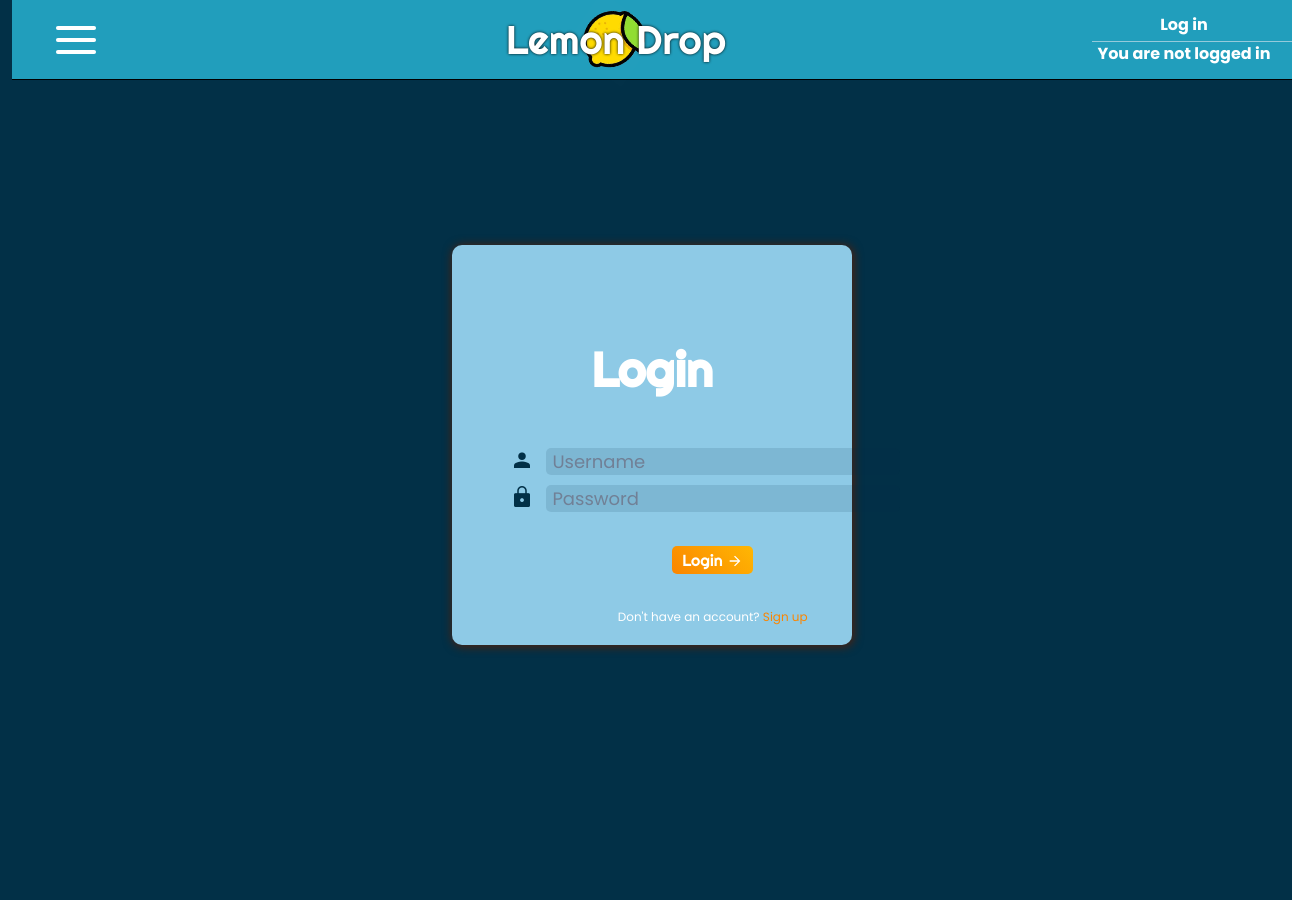
Test: clicking login with correct credentials gives a success toast
The width and height of the screenshot is (1292, 900).
Type "ben10" into the field with placeholder "Username". click: [723, 461]
box: top-left (546, 448), bottom-right (900, 474)
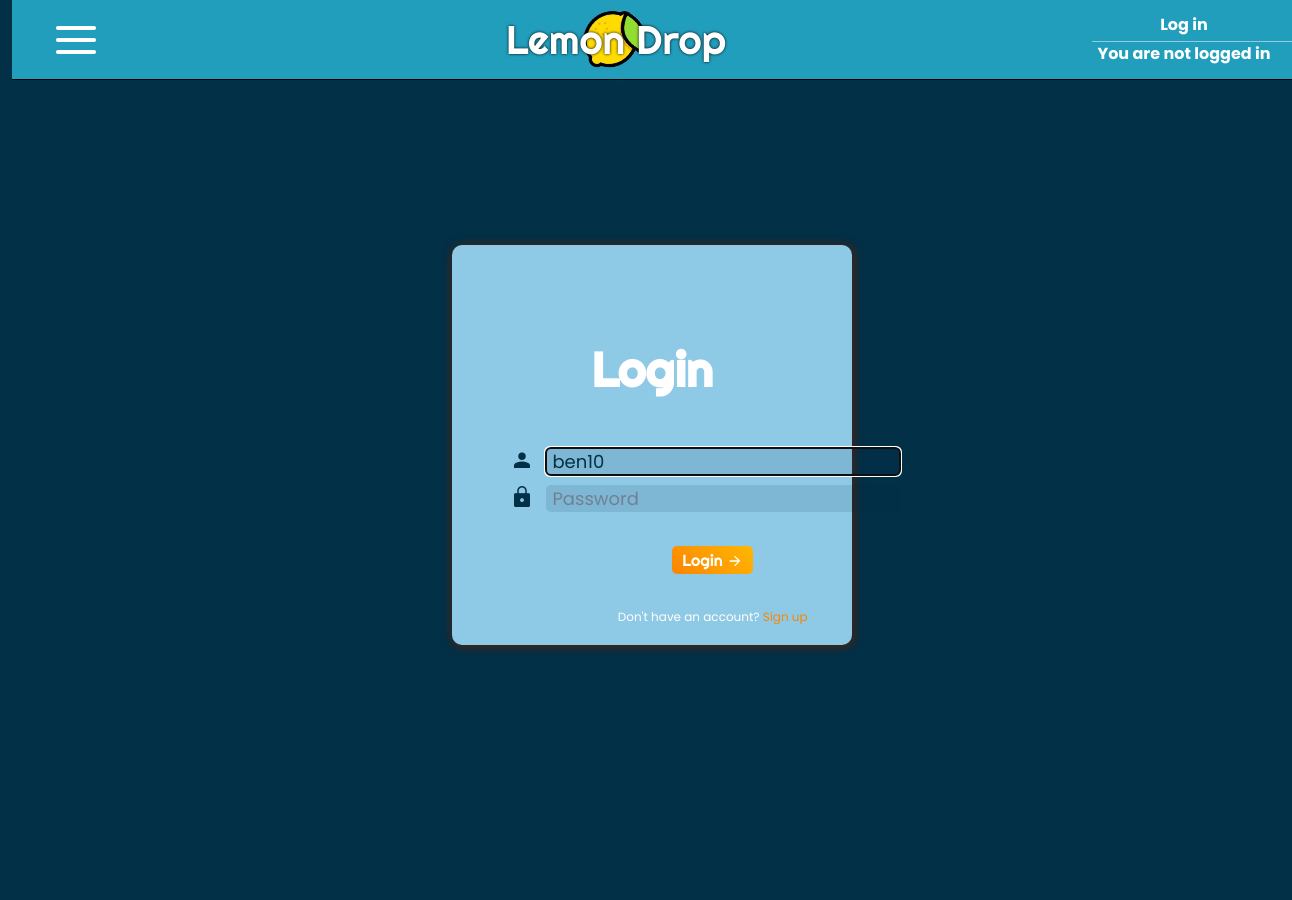
Type "test" into the password field with placeholder "Password". click: [723, 498]
box: top-left (546, 484), bottom-right (900, 512)
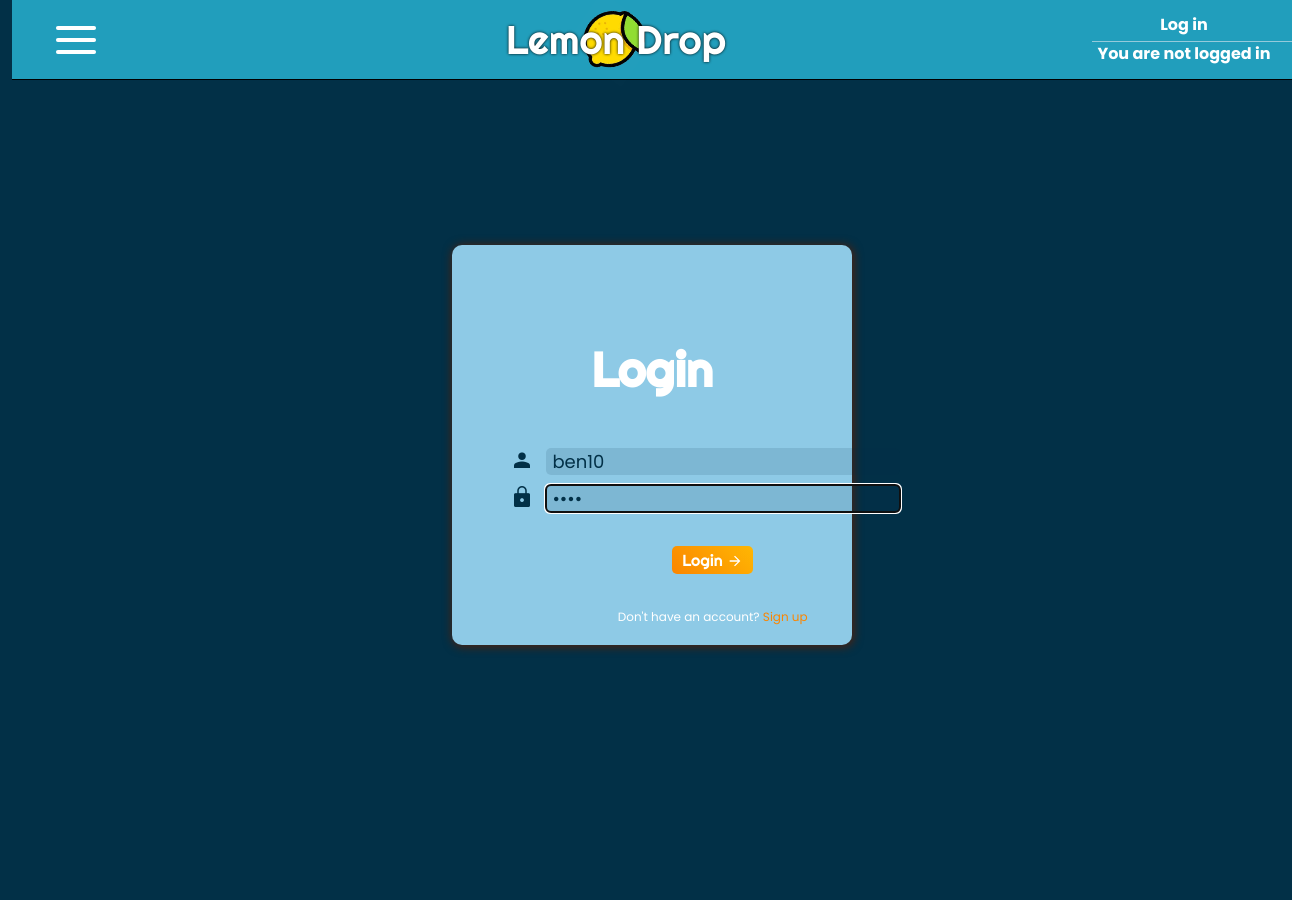
Click the button. click: [713, 560]
box: top-left (672, 546), bottom-right (753, 574)
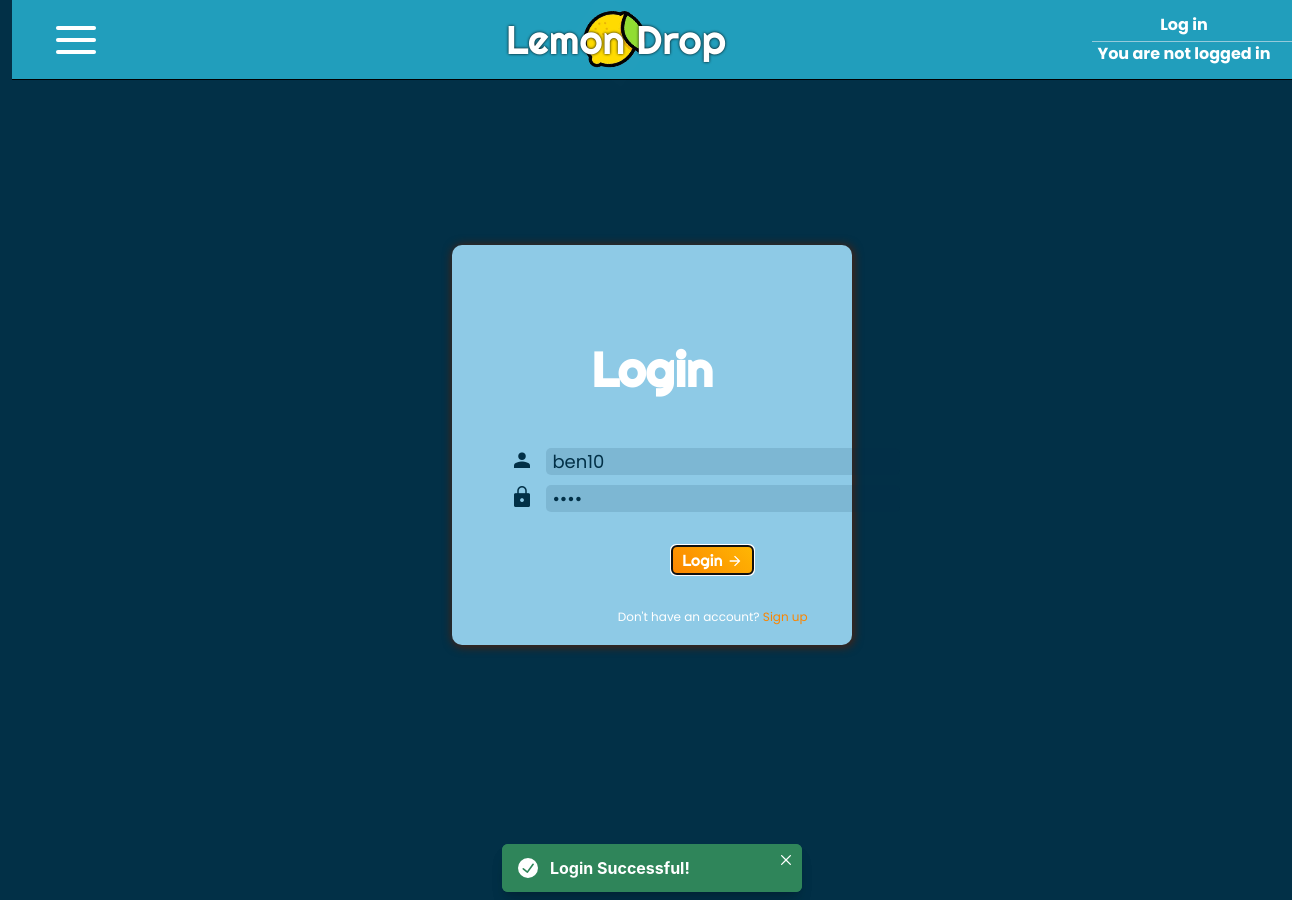
Check: the 1st text "Login Successful!" is shown, box top-left (550, 858), bottom-right (690, 878)
